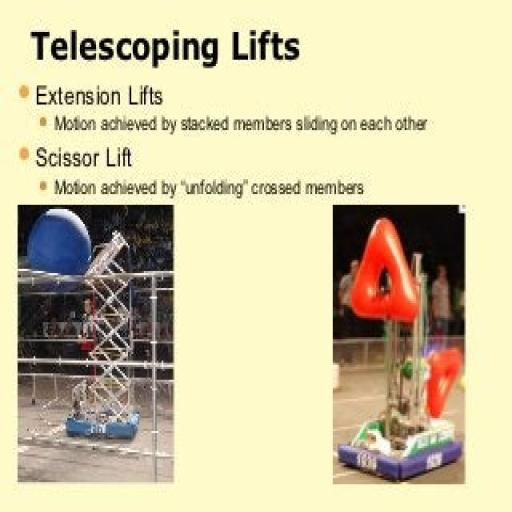robot: (339, 250, 461, 476), (59, 228, 139, 444)
